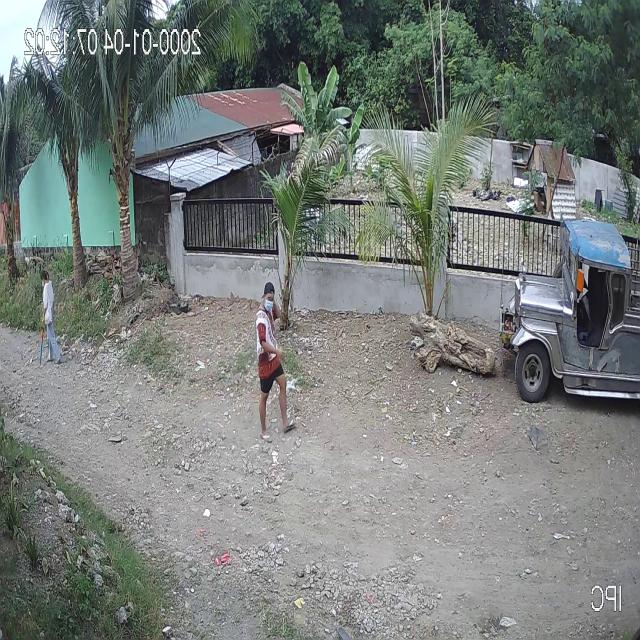walking: (254, 279, 296, 446), (35, 264, 63, 370)
